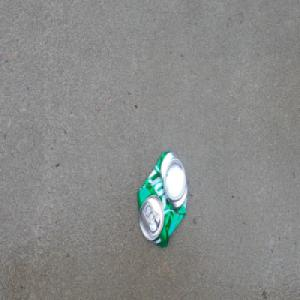SodaCan: (136, 149, 189, 250)
